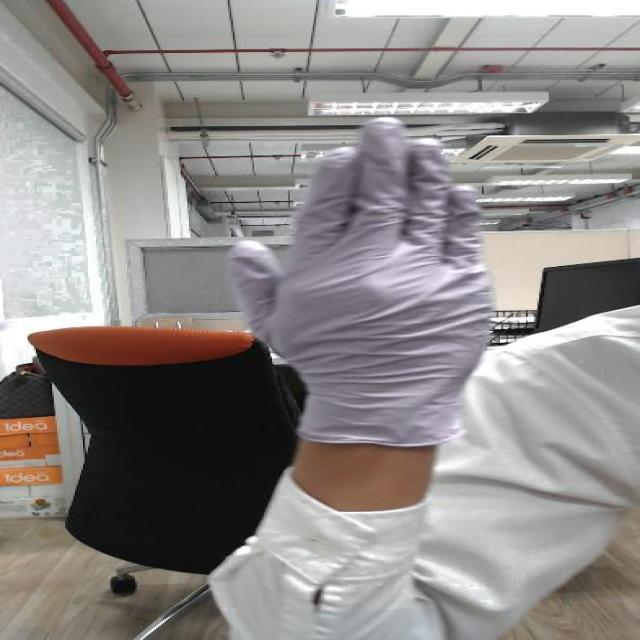with_gloves: (185, 100, 570, 412)
